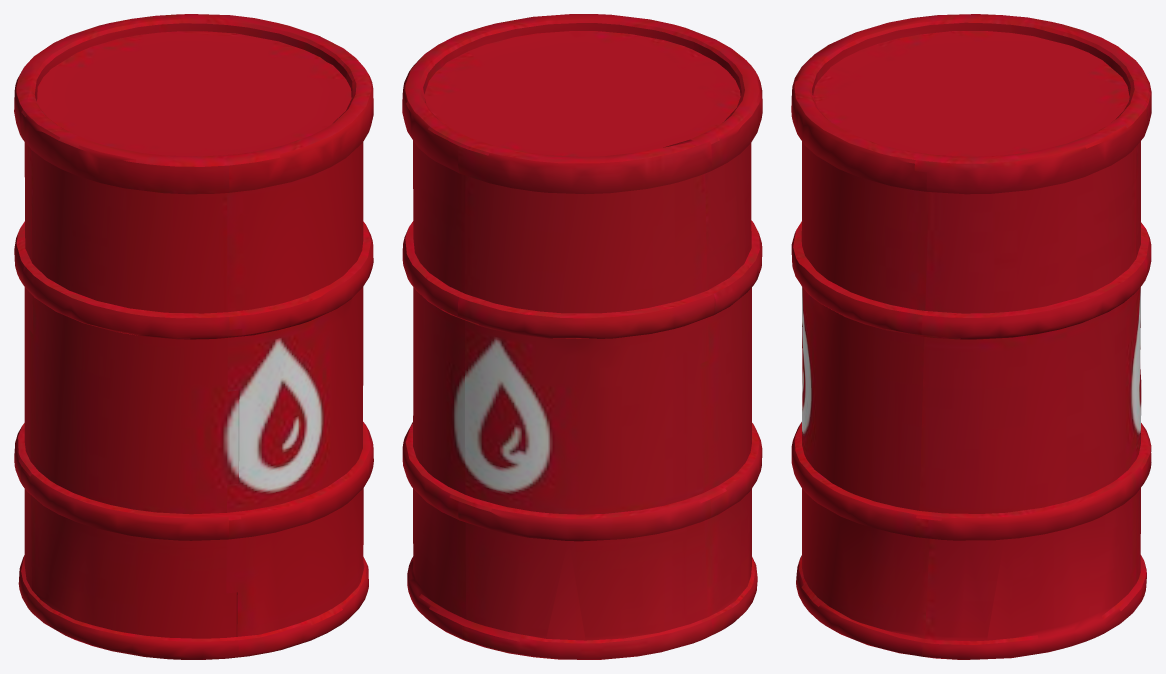
File: arene_baril.glb
3 views of the same model, side by side, from view 1: azimuth 30°, elevation 25°; view 2: azimuth 150°, elevation 25°; view 3: azimuth 270°, elevation 25° (orthographic).
Parts seen in each view (by area): view 1: Mesh0; view 2: Mesh0; view 3: Mesh0.
Part boxes in pixels (x1=…): Mesh0: x1=14, y1=14, x2=373, y2=659; Mesh0: x1=402, y1=14, x2=762, y2=659; Mesh0: x1=791, y1=14, x2=1151, y2=659.
Size of the model in its own units: 1.24 by 1.9 by 1.24.
1 material, 1 textured.
